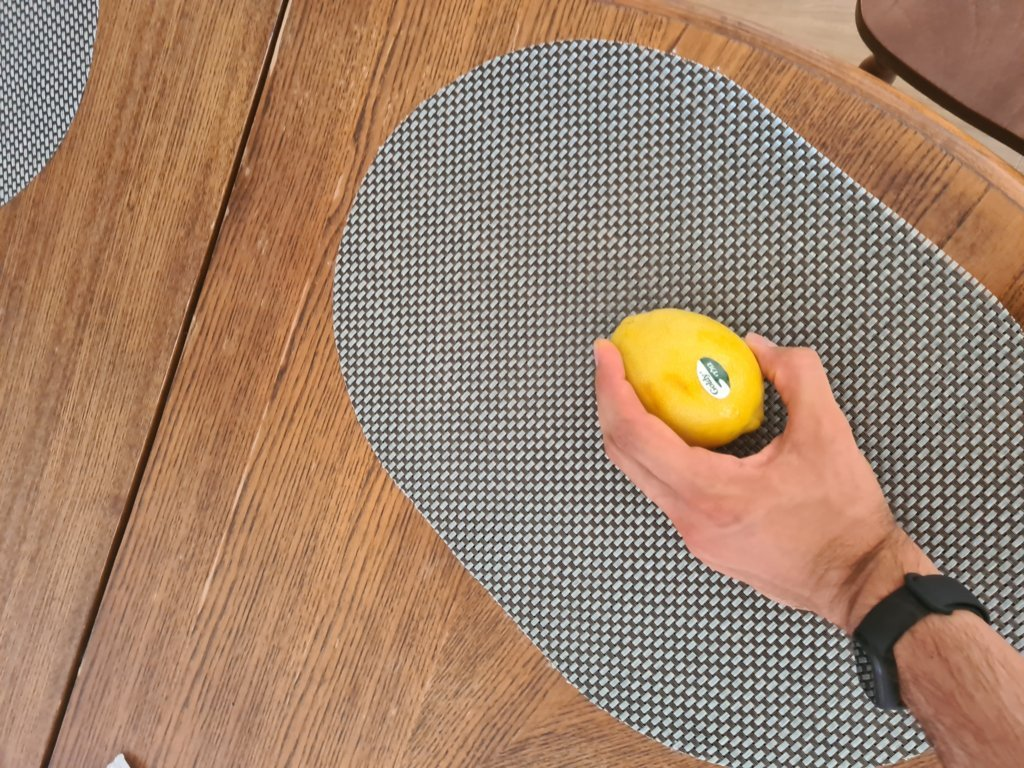lemon: (596, 302, 768, 445)
